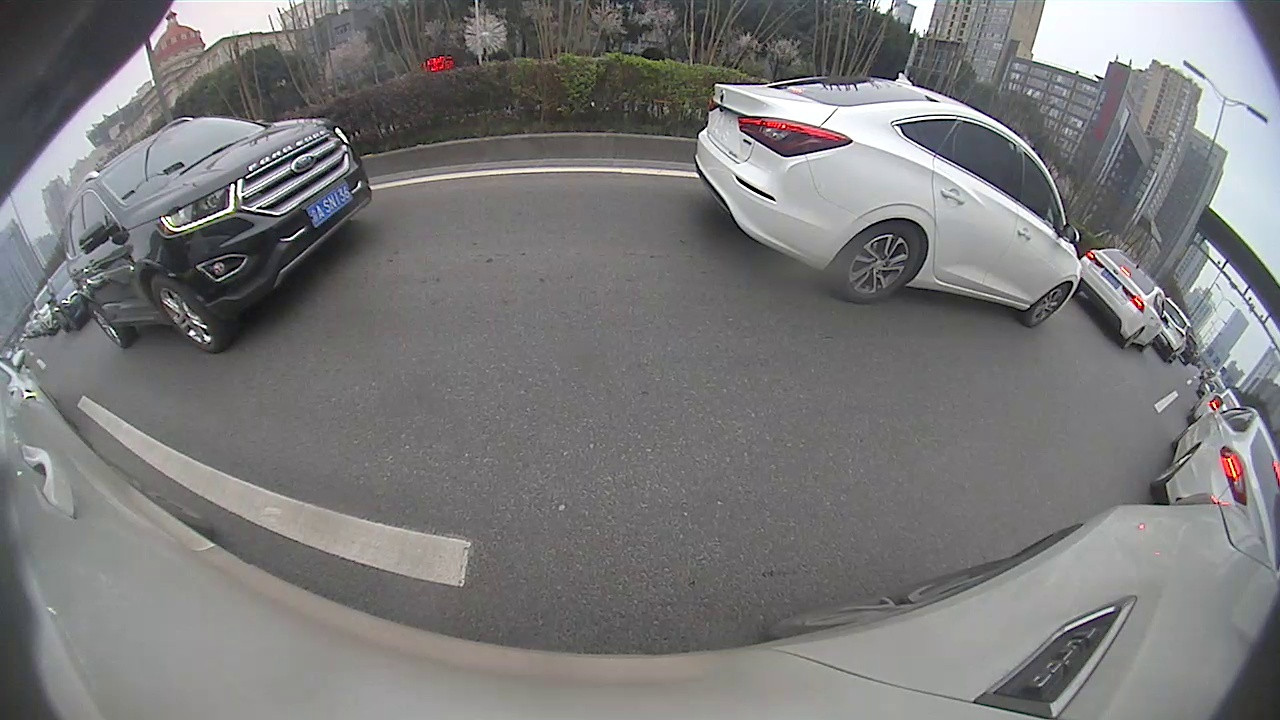car: (691, 70, 1085, 330), (60, 117, 375, 354), (1146, 400, 1278, 544), (1079, 247, 1170, 354)
front: (153, 275, 225, 352), (1025, 281, 1073, 328)
rear: (834, 223, 922, 305), (89, 301, 128, 347)
